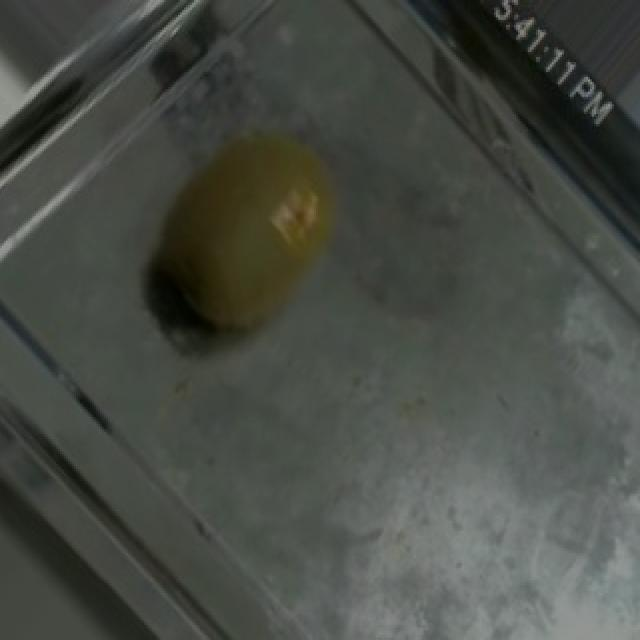Fruit: (110, 97, 384, 372)
